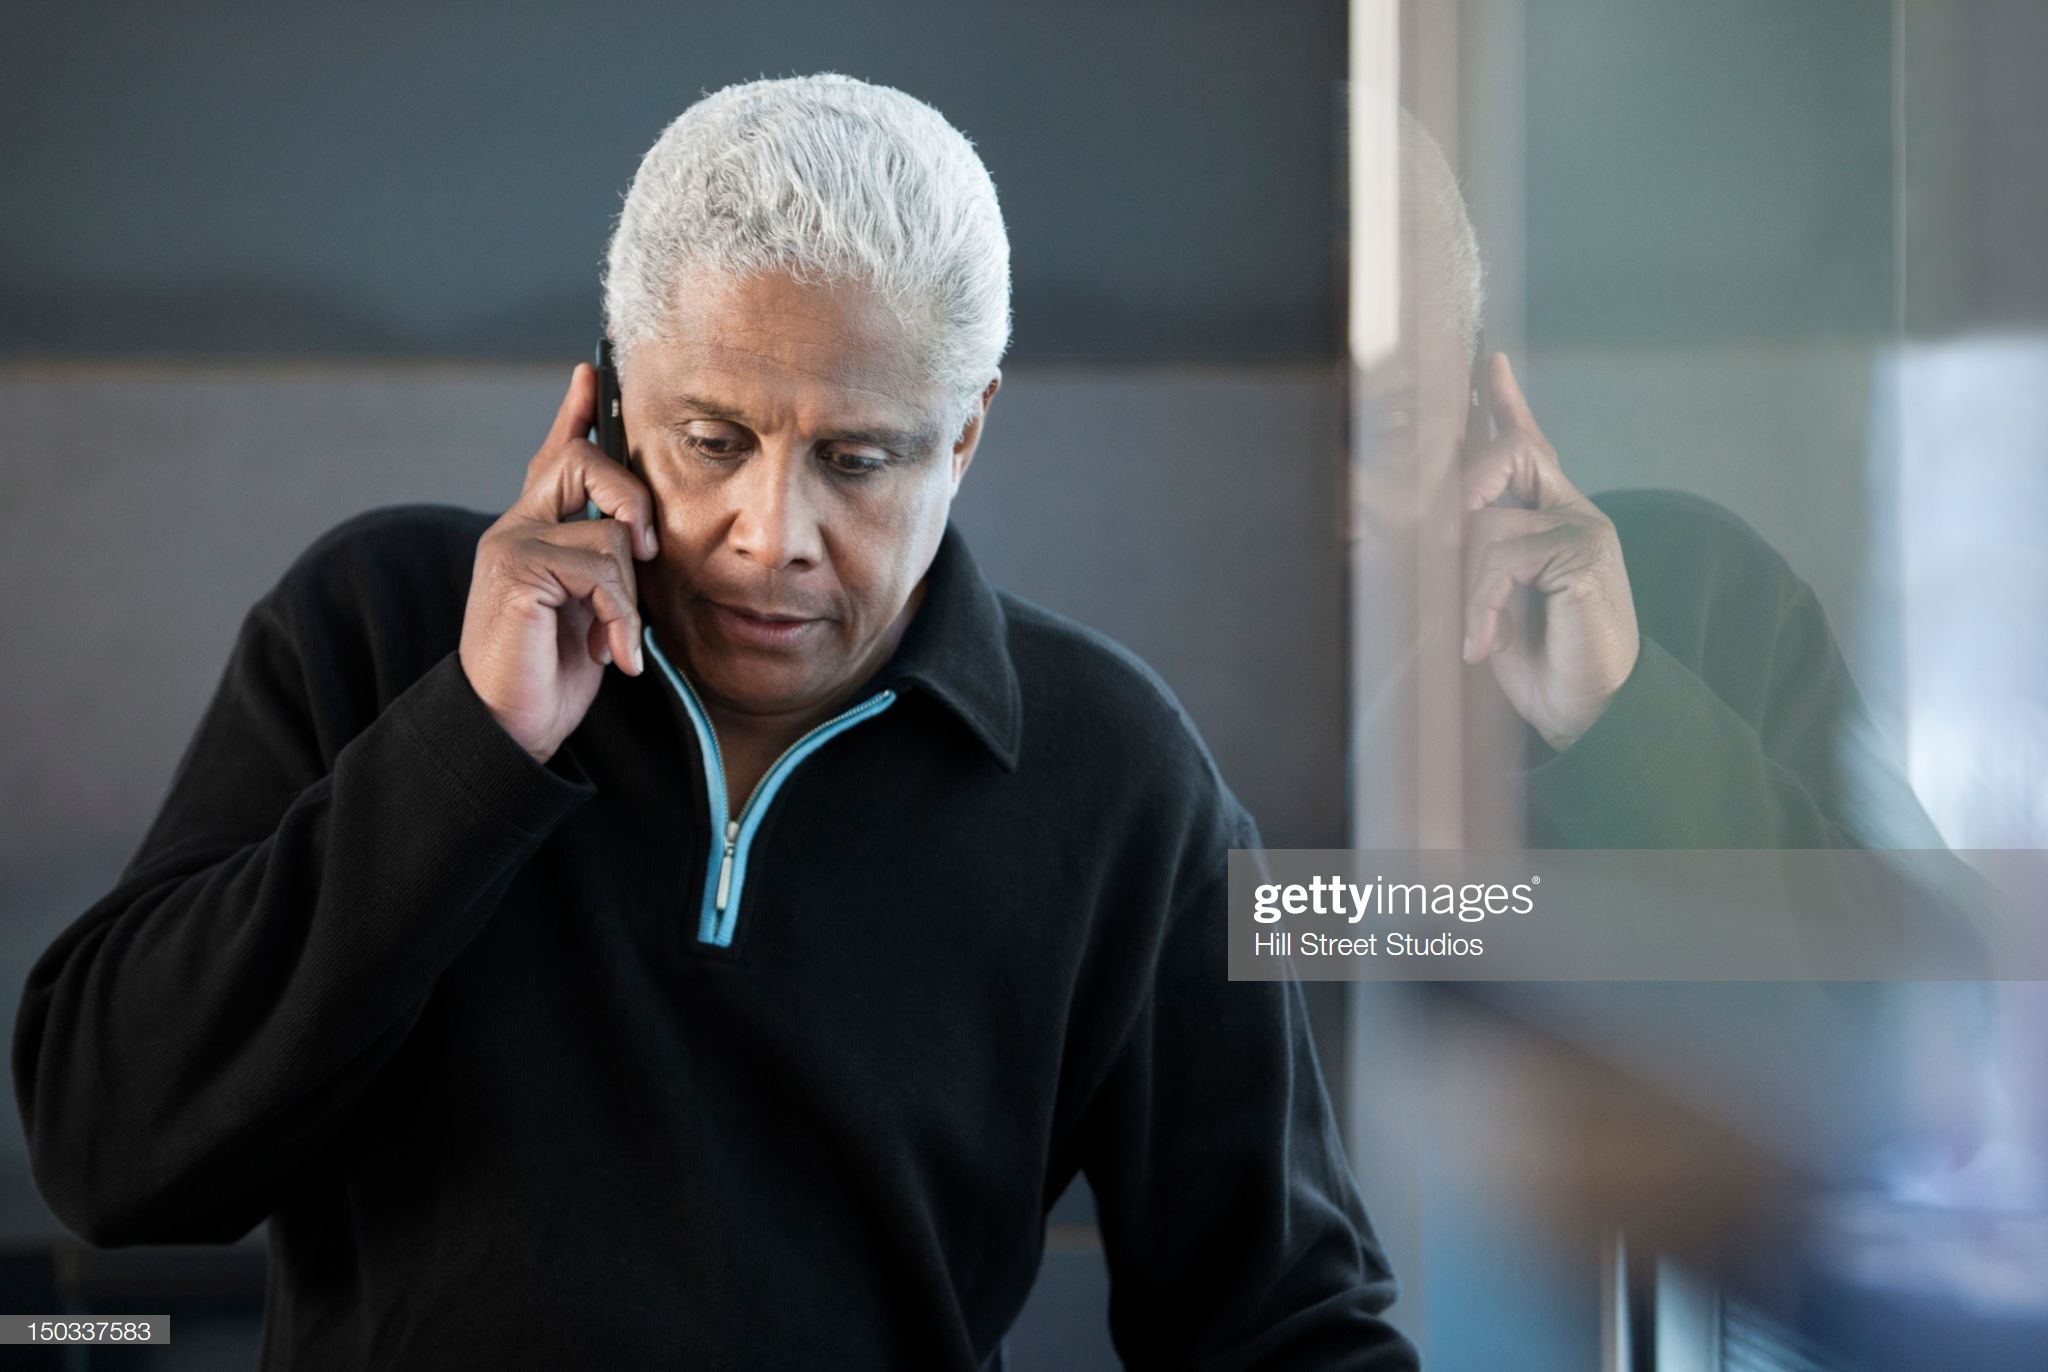phone: (557, 306, 670, 616)
talk: (459, 282, 937, 737)
